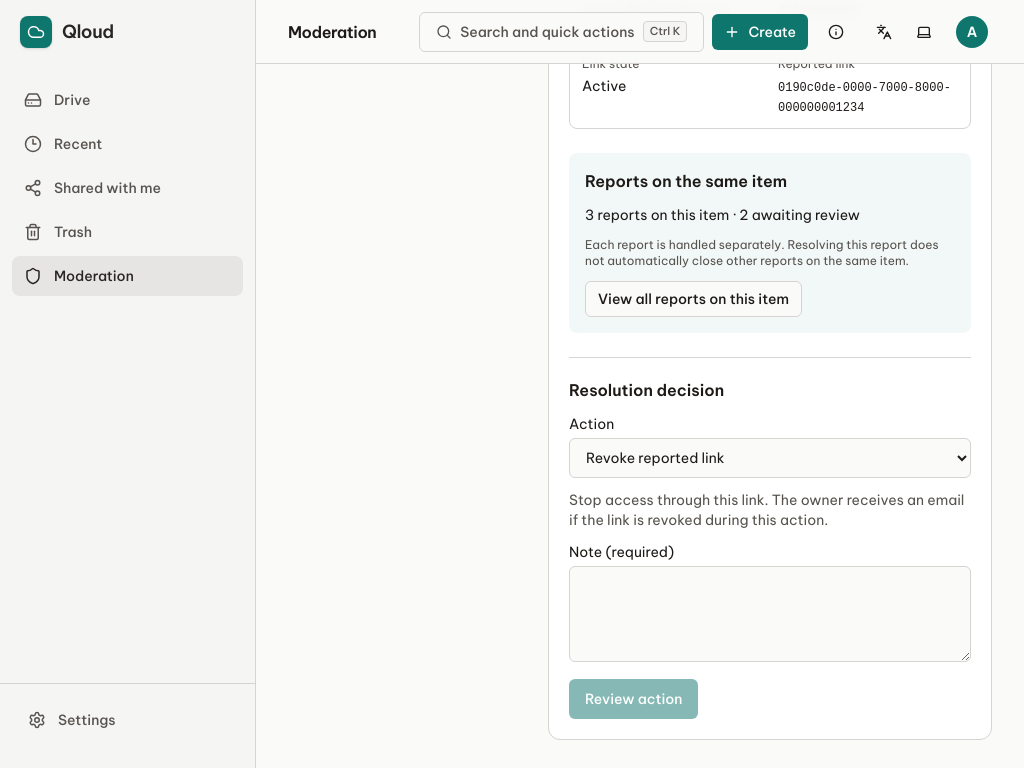
Test case: shows report details, requires a note and confirmation, resolves and renders audit
This screenshot has width=1024, height=768.
(page scrolled)
Expected: the link "Moderation" is shown, [12,256,243,296]
Expected: the button "Review action" is disabled, [569,679,698,719]
Type "Confirmed malware" into the text box labelled "Note (required)" at (770, 614), box [569,566,971,662]
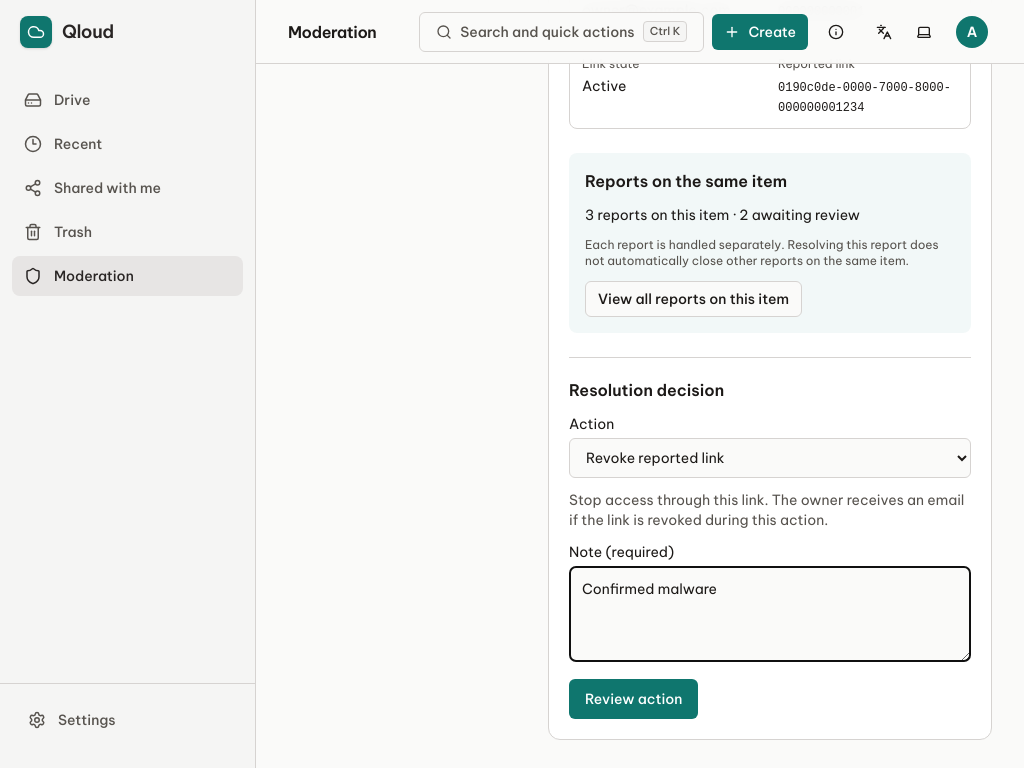
Click the button "Review action" at (634, 699), box [569,679,698,719]
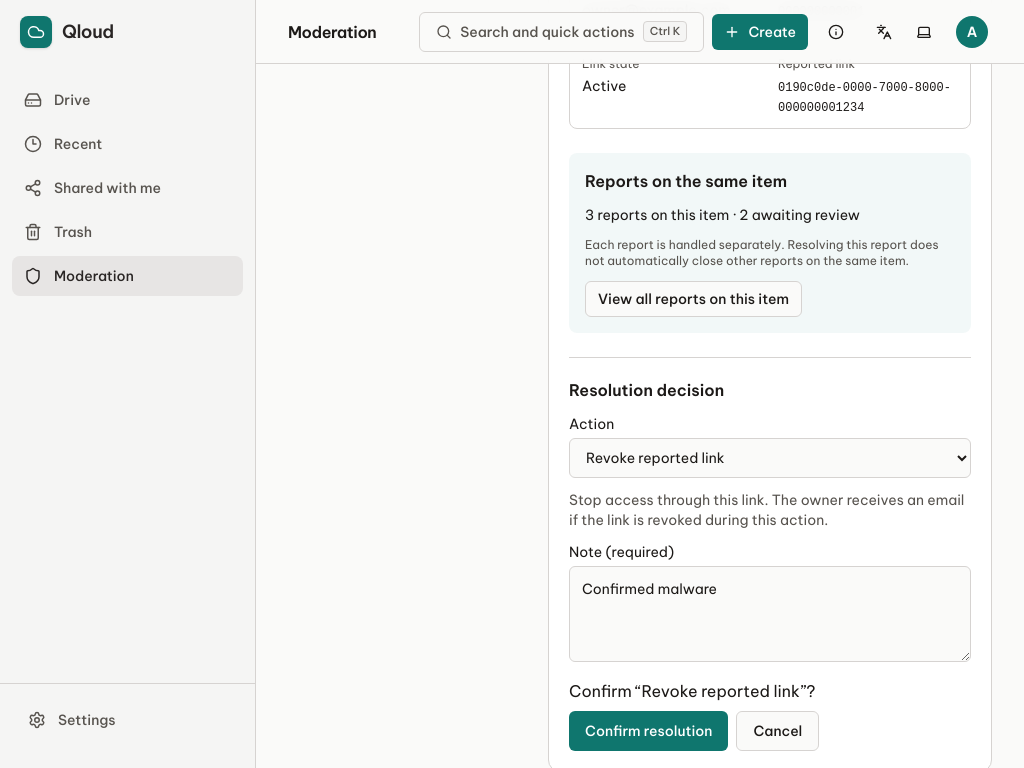
Click the button "Cancel" at (778, 731), box [736,711,819,751]
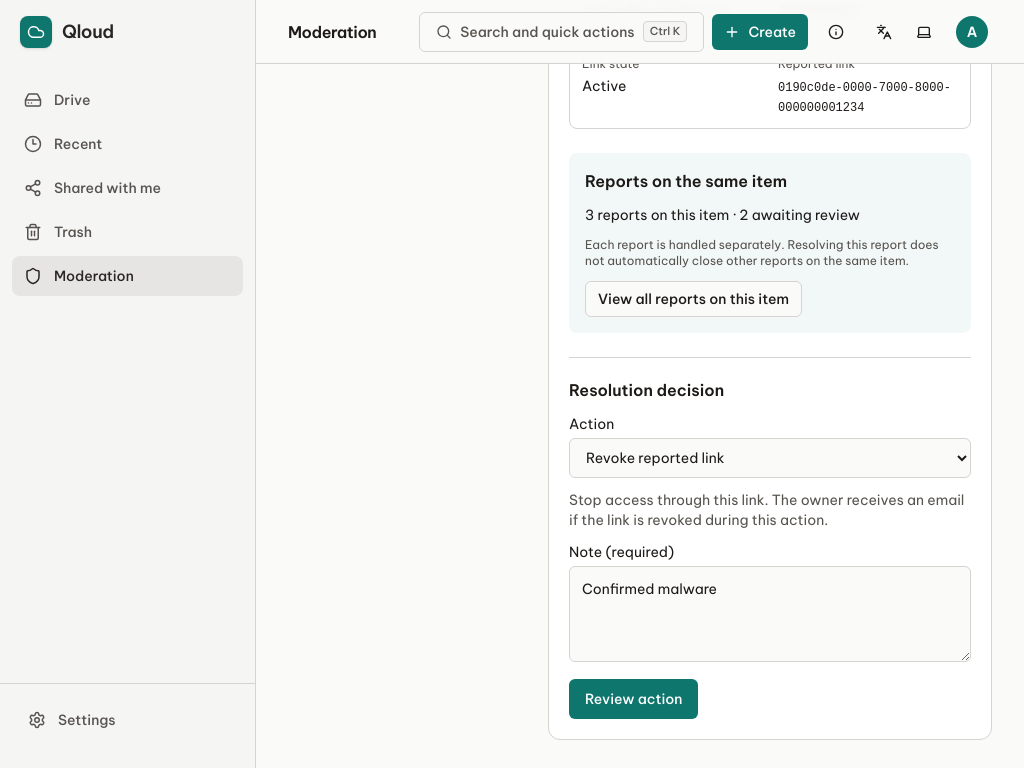
Click the button "Review action" at (634, 699), box [569,679,698,719]
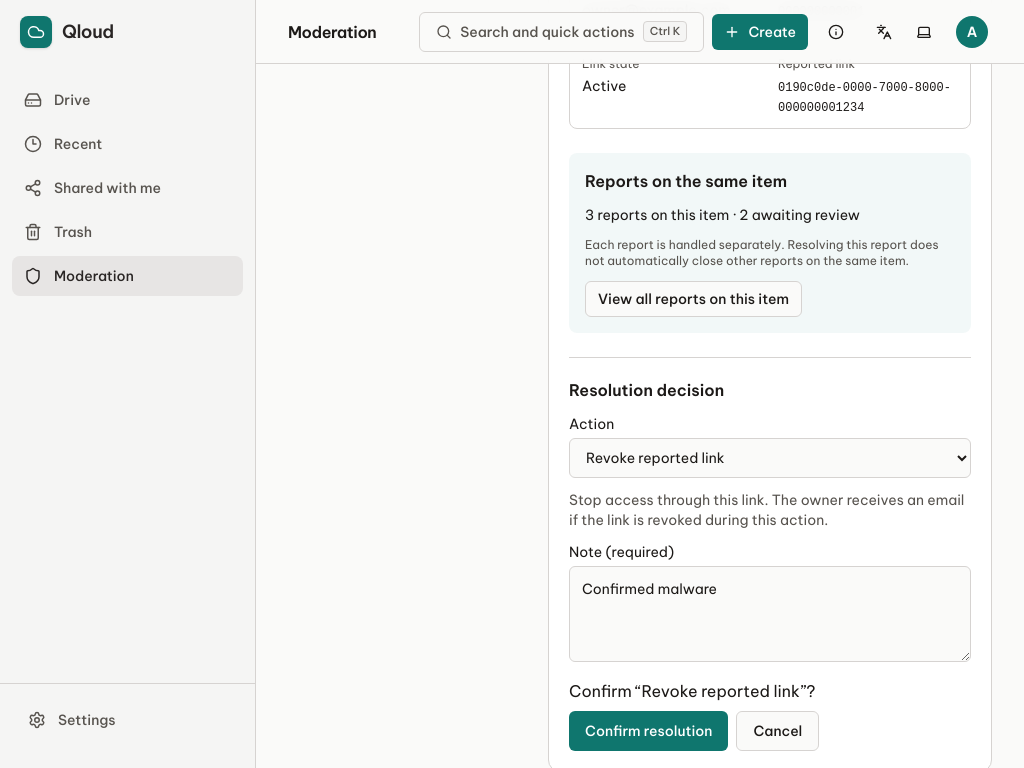
Click the button "Confirm resolution" at (649, 731), box [569,711,728,751]
(page scrolled)
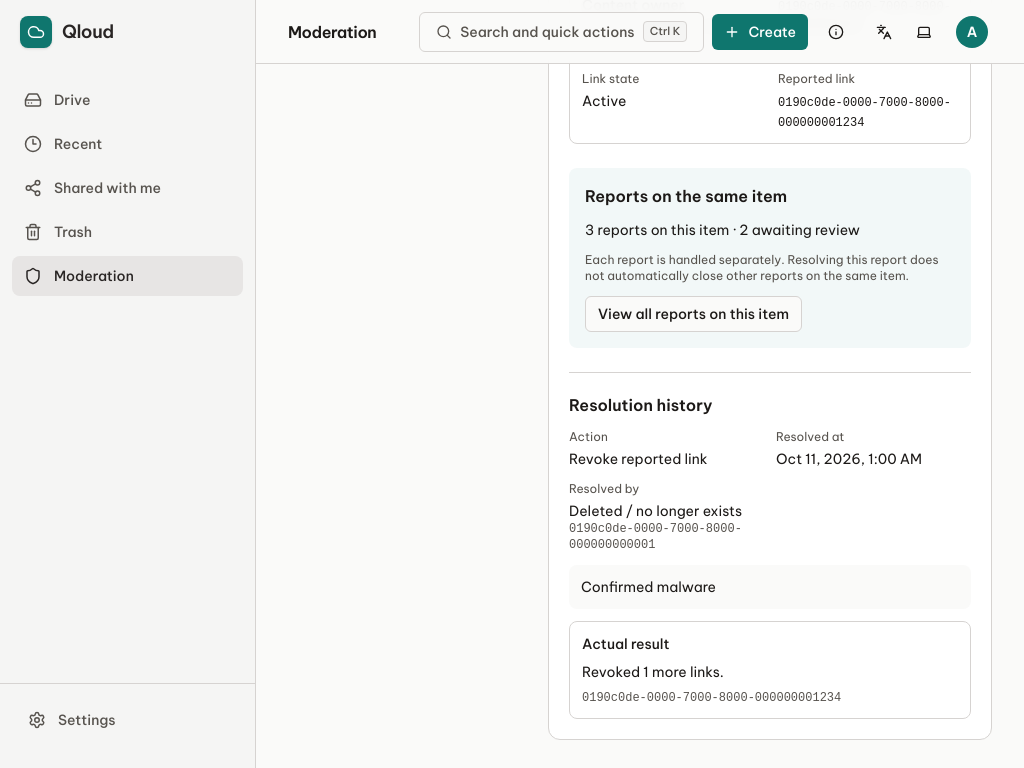
Expected: the button "Review action" is not shown
Now the element "Resolution history" is shown, box [569,372,971,719]
